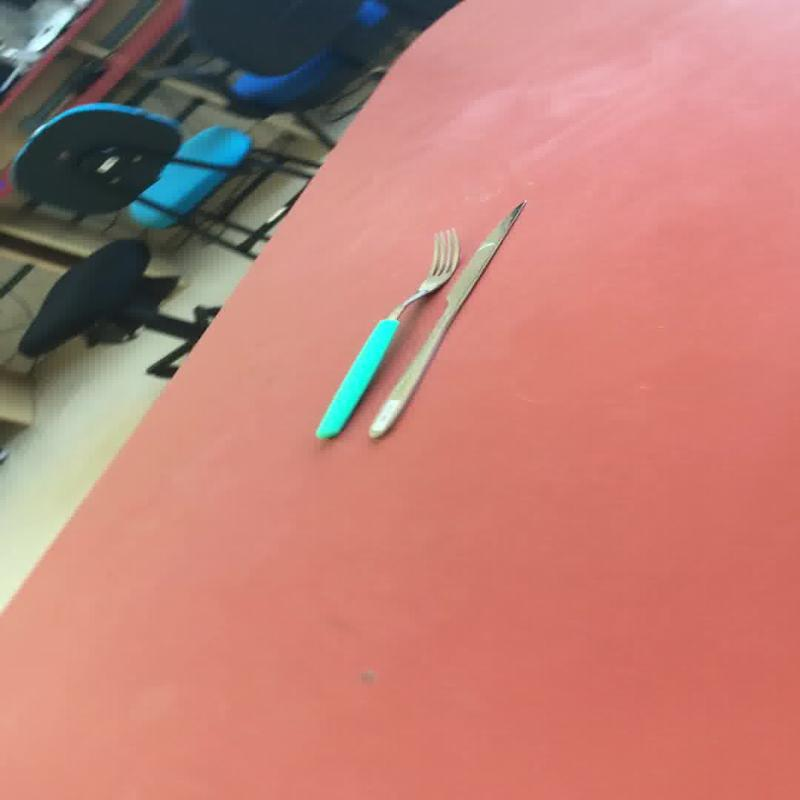fork: (312, 227, 460, 440)
knife: (366, 198, 526, 439)
